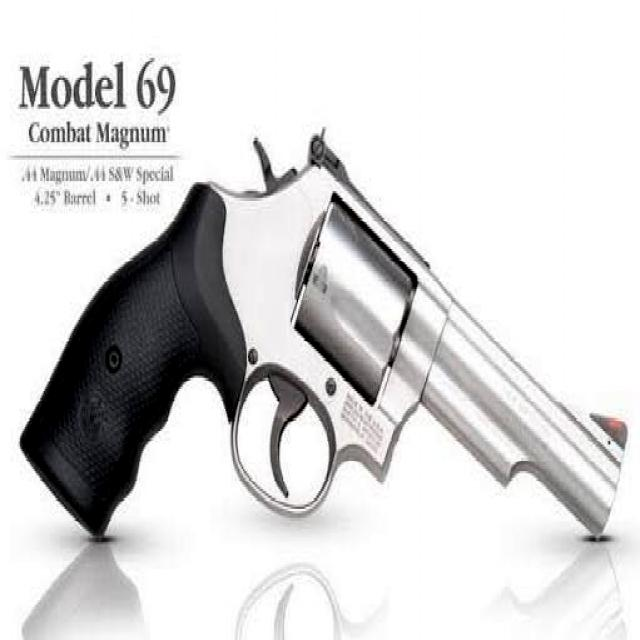revolver: (16, 50, 631, 626)
